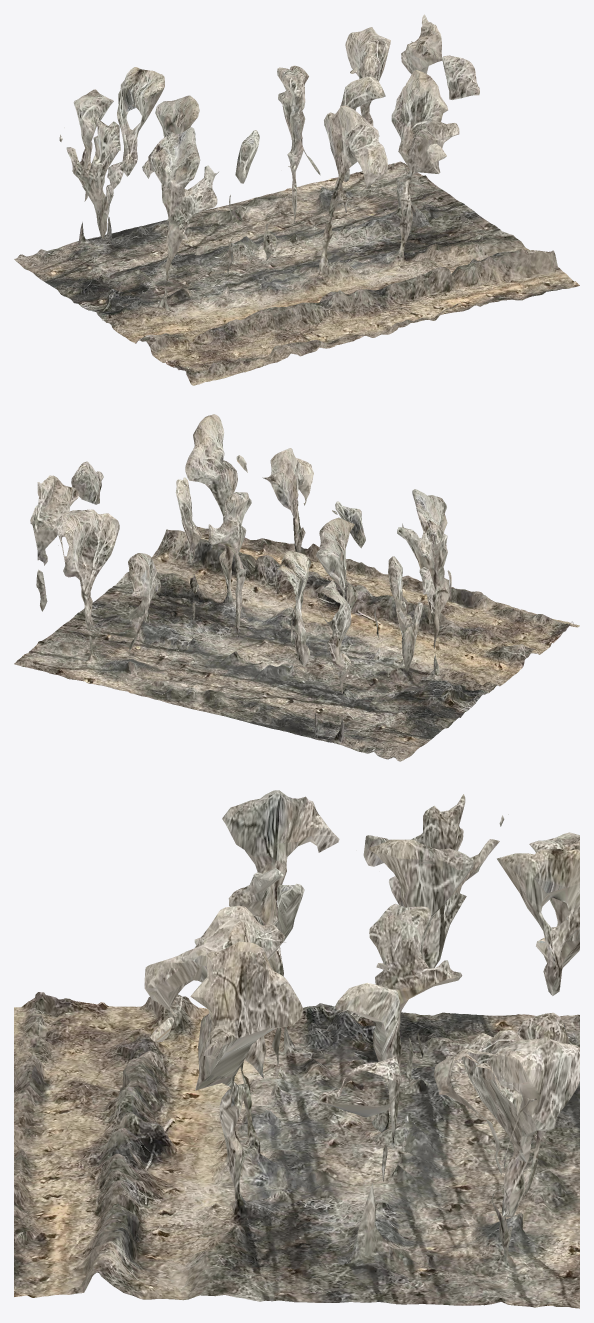
The model's file is Block_L21_717.glb.
3 views of the same model, one above another, from view 1: azimuth 30°, elevation 25°; view 2: azimuth 150°, elevation 25°; view 3: azimuth 270°, elevation 25° (orthographic). The views are drawn at different scales.
Parts seen in each view (by area): view 1: rtc; view 2: rtc; view 3: rtc.
Boxes of the visible parts, bbox=[...] form: rtc: bbox=[14, 14, 579, 385]; rtc: bbox=[14, 414, 579, 761]; rtc: bbox=[14, 790, 579, 1308].
Bounding box in the file's own units: 23.47 × 11.29 × 18.83.
Materials: 4 (4 with a texture image).
